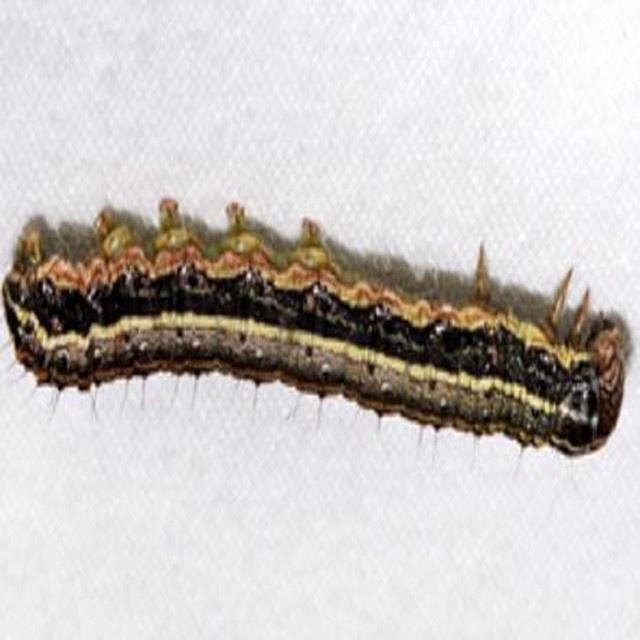gusano_cogollero: (6, 204, 618, 462)
